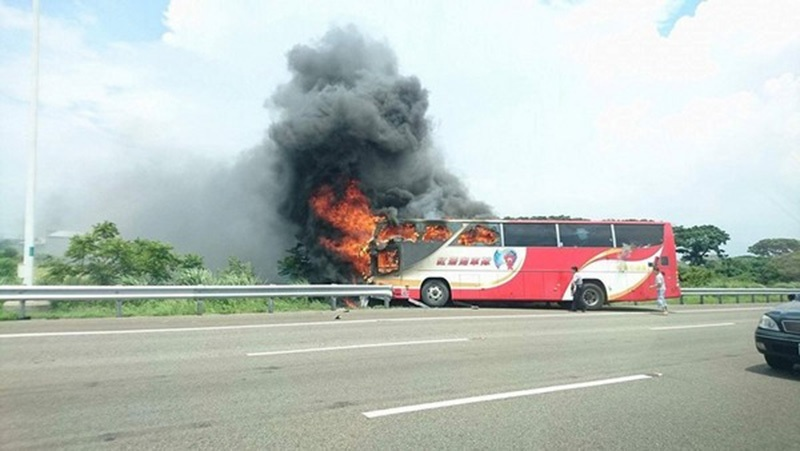fire: (307, 180, 467, 278)
